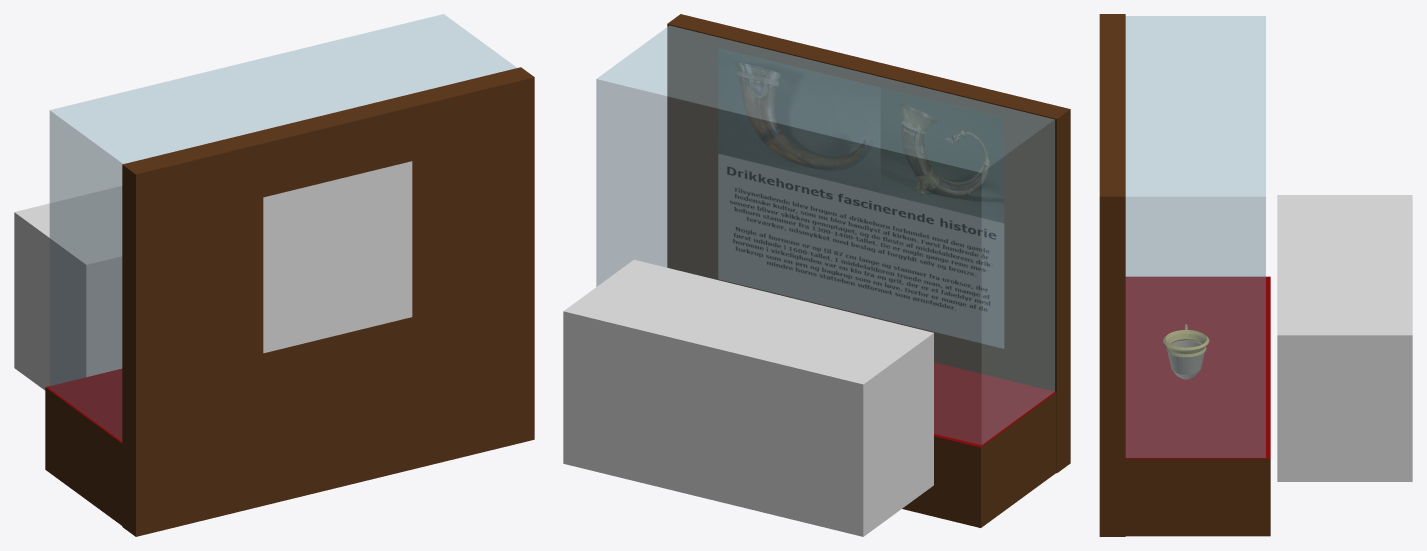
The model's file is montre_drikkehorn.gltf.
The picture shows the model from 3 angles, left to right: view 1: azimuth 30°, elevation 25°; view 2: azimuth 150°, elevation 25°; view 3: azimuth 270°, elevation 25°; orthographic projection. The views are drawn at different scales.
Parts seen in each view (by area): view 1: Cube.001, glass.001, snap, front.zone, Cube.006; view 2: glass.001, front.zone, Plane, Cube.001, Cube.006; view 3: glass.001, front.zone, Cube.006, Cube.001, Cylinder.
Part boxes in pixels (x1,y1,x2,y2): Cube.001: (122, 67, 534, 536); glass.001: (49, 14, 516, 441); snap: (263, 161, 412, 353); front.zone: (14, 186, 122, 390); Cube.006: (45, 368, 122, 525); glass.001: (596, 25, 1054, 445); front.zone: (563, 259, 933, 536); Plane: (718, 48, 1004, 348); Cube.001: (667, 14, 1070, 473); Cube.006: (902, 362, 1056, 527); glass.001: (1125, 16, 1265, 457); front.zone: (1277, 195, 1412, 481); Cube.006: (1125, 276, 1270, 536); Cube.001: (1099, 14, 1125, 536); Cylinder: (1163, 324, 1209, 379).
Size of the model in its own units: 5.35 by 4.65 by 3.88.
Materials: 6 (1 with a texture image).
